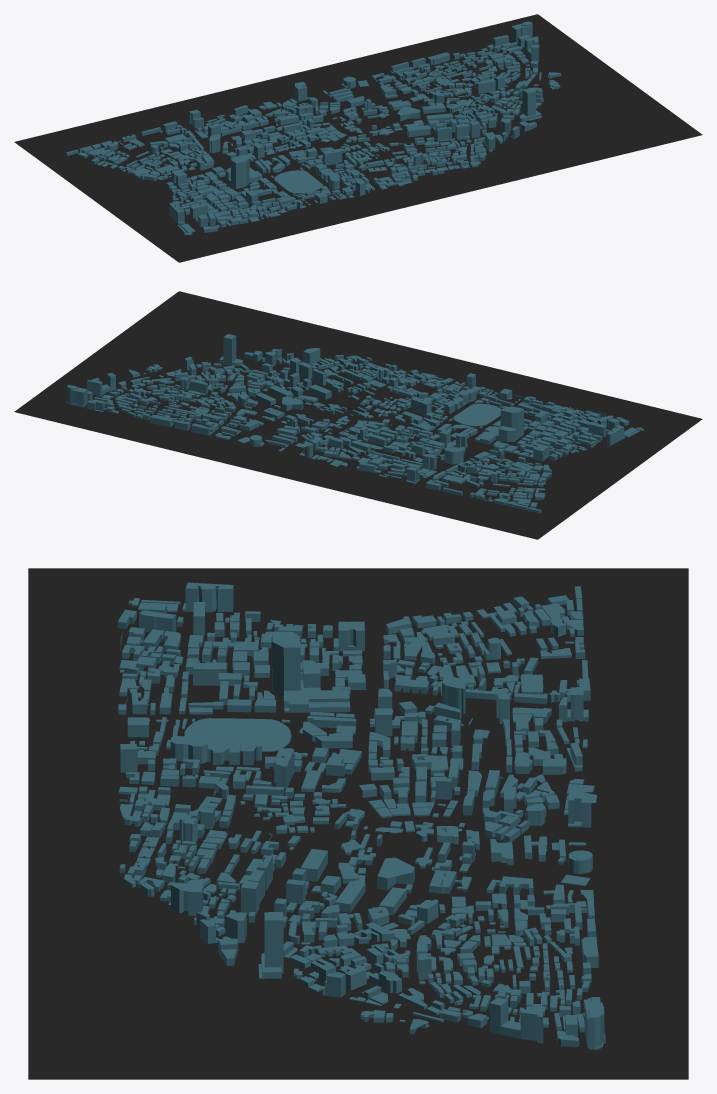
Rendered from city.glb.
The picture shows the model from 3 angles, top to bottom: view 1: azimuth 30°, elevation 25°; view 2: azimuth 150°, elevation 25°; view 3: azimuth 270°, elevation 25°; orthographic projection. The views are drawn at different scales.
Parts seen in each view (by area): view 1: Plane, 其他建筑; view 2: Plane, 其他建筑; view 3: Plane, 其他建筑.
Boxes of the visible parts, bbox=[...] form: Plane: bbox=[14, 14, 702, 262]; 其他建筑: bbox=[65, 21, 561, 235]; Plane: bbox=[14, 291, 702, 539]; 其他建筑: bbox=[67, 334, 643, 513]; Plane: bbox=[28, 568, 688, 1079]; 其他建筑: bbox=[117, 582, 605, 1049].
Size of the model in its own units: 496 by 24.43 by 271.
